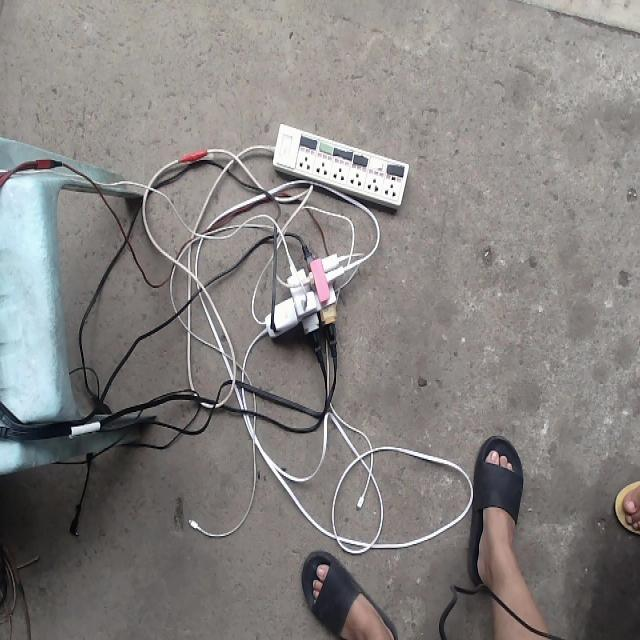-: (262, 248, 346, 352)
